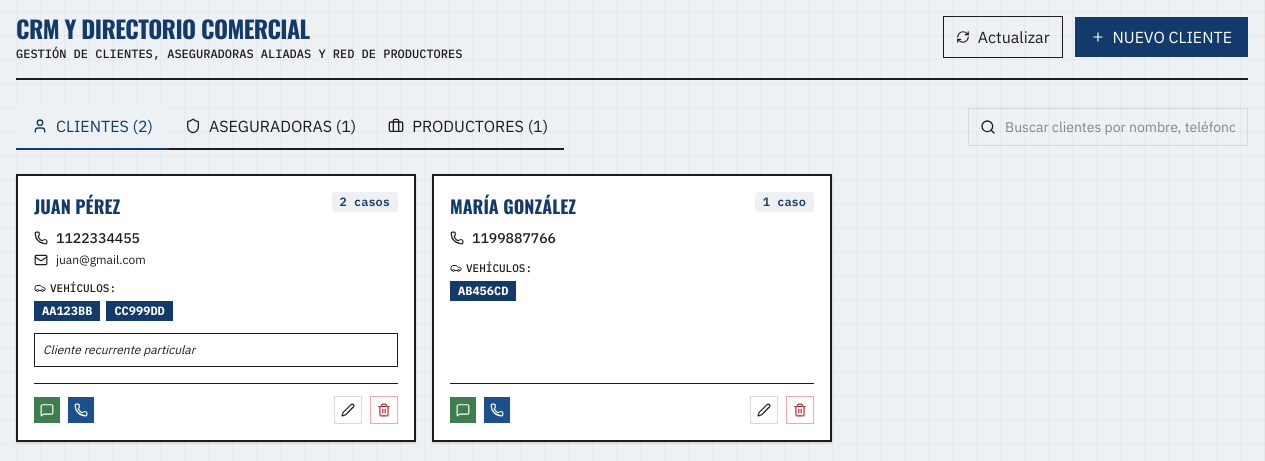
CRMPage › permite cambiar a la pestaña de Productores
Check: the heading "Juan Pérez" is shown, box [34,192,120,220]
Click the tab "Productores (1)". click: point(468, 127)
box: [372,104,564,150]
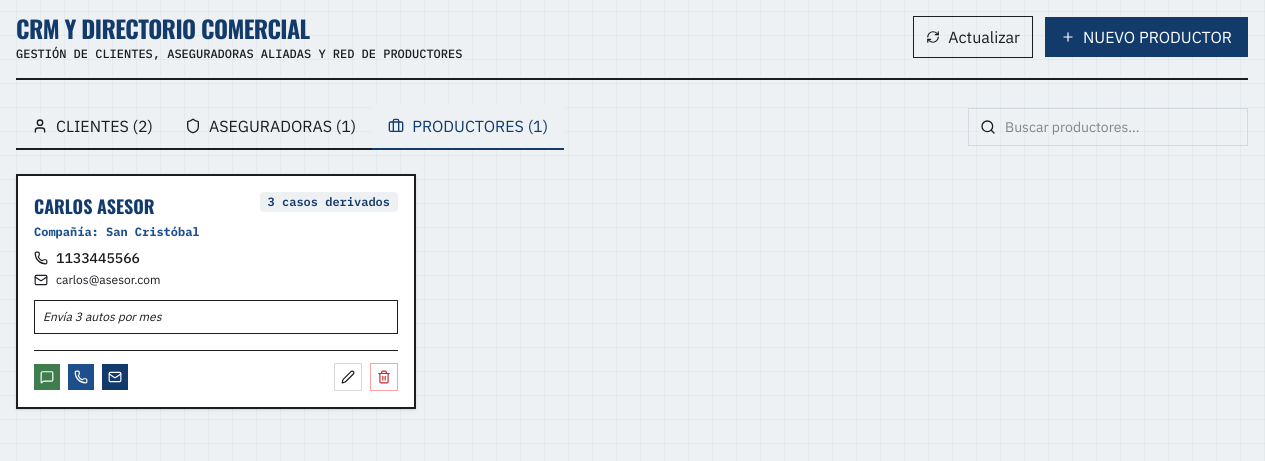
Check: the heading "Carlos Asesor" is shown, box [34,192,155,220]
Check: the text "Compañía: San Cristóbal" is shown, box [34,224,200,239]
Check: the text "3 casos derivados" is shown, box [260,192,398,212]
